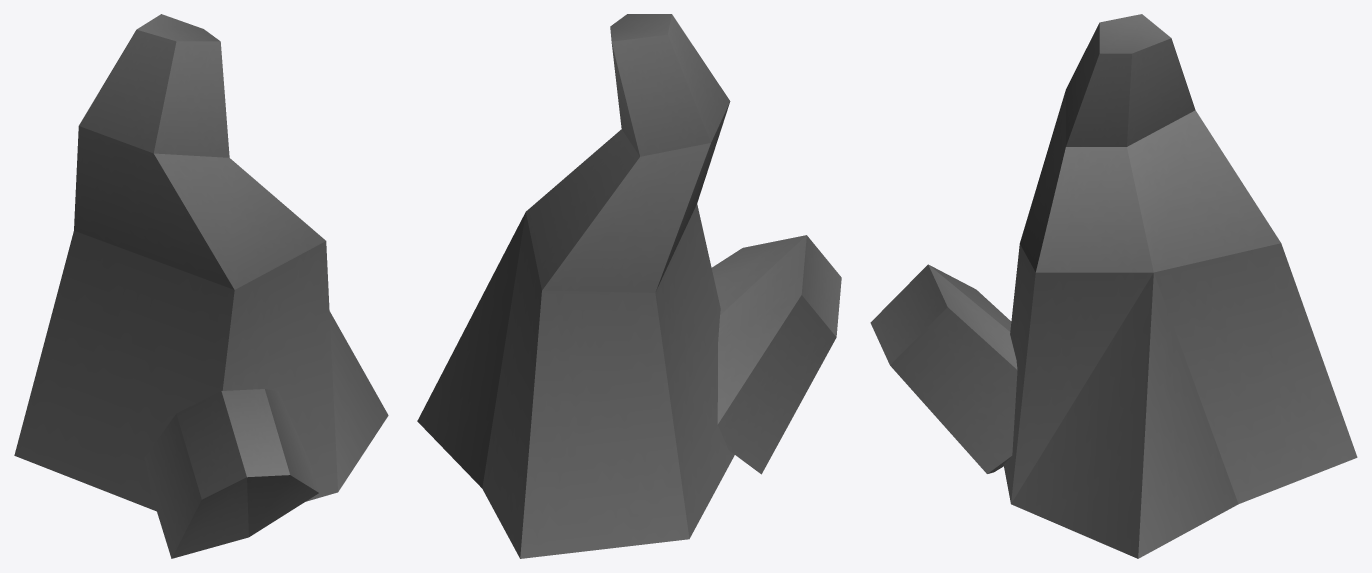
The model's file is pack02_rocks_11.fbx.
3 views of the same model, side by side, from view 1: azimuth 30°, elevation 25°; view 2: azimuth 150°, elevation 25°; view 3: azimuth 270°, elevation 25° (orthographic). The views are drawn at different scales.
Visible parts, largest first — view 1: Rock Type3 03 mesh; view 2: Rock Type3 03 mesh; view 3: Rock Type3 03 mesh.
Boxes of the visible parts, x1=… form: Rock Type3 03 mesh: x1=14, y1=14, x2=388, y2=558; Rock Type3 03 mesh: x1=417, y1=14, x2=841, y2=558; Rock Type3 03 mesh: x1=870, y1=14, x2=1357, y2=558.
Bounding box in the file's own units: 93.26 × 132 × 127.
Materials: 1 (1 with a texture image).
